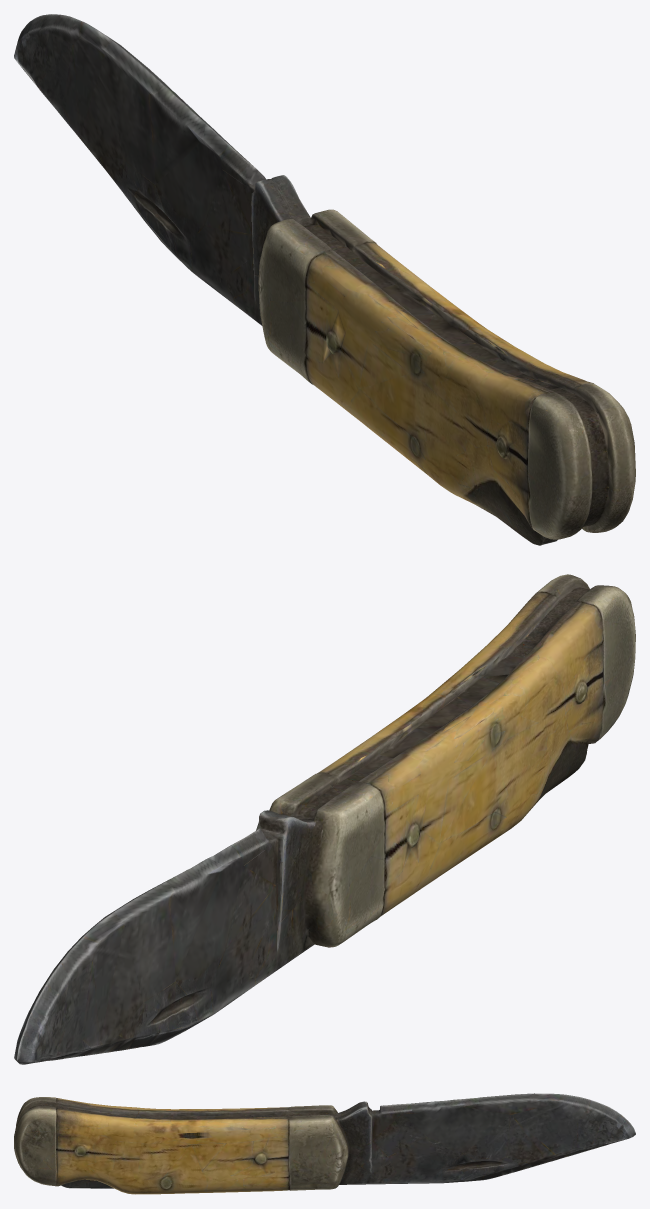
Rendered from knife.90908878.glb.
3 renders of one model, top to bottom at view 1: azimuth 30°, elevation 25°; view 2: azimuth 150°, elevation 25°; view 3: azimuth 270°, elevation 25°, orthographic. The views are drawn at different scales.
Visible parts, largest first — view 1: item; view 2: item; view 3: item.
Part boxes in pixels (box(x1,y1,x2,y2)): item: box(14, 14, 635, 545); item: box(14, 574, 635, 1064); item: box(14, 1093, 635, 1194).
Bounding box in the file's own units: 0.0236 × 0.0504 × 0.2998.
Materials: 1 (1 with a texture image).
